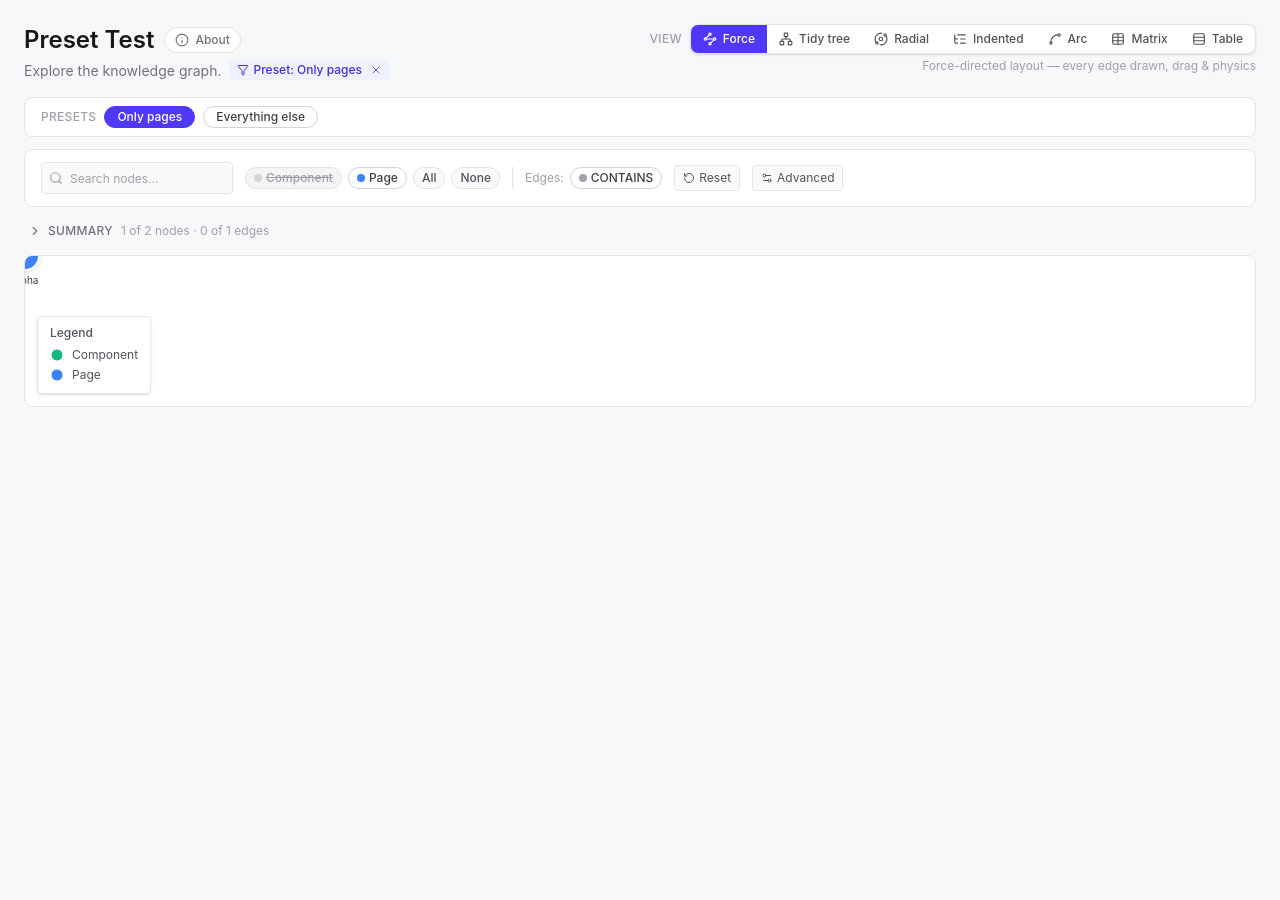
it: Viewer about panel › closes again
Click the button "About".
click(203, 40)  # box x1=164 y1=27 x2=241 y2=53
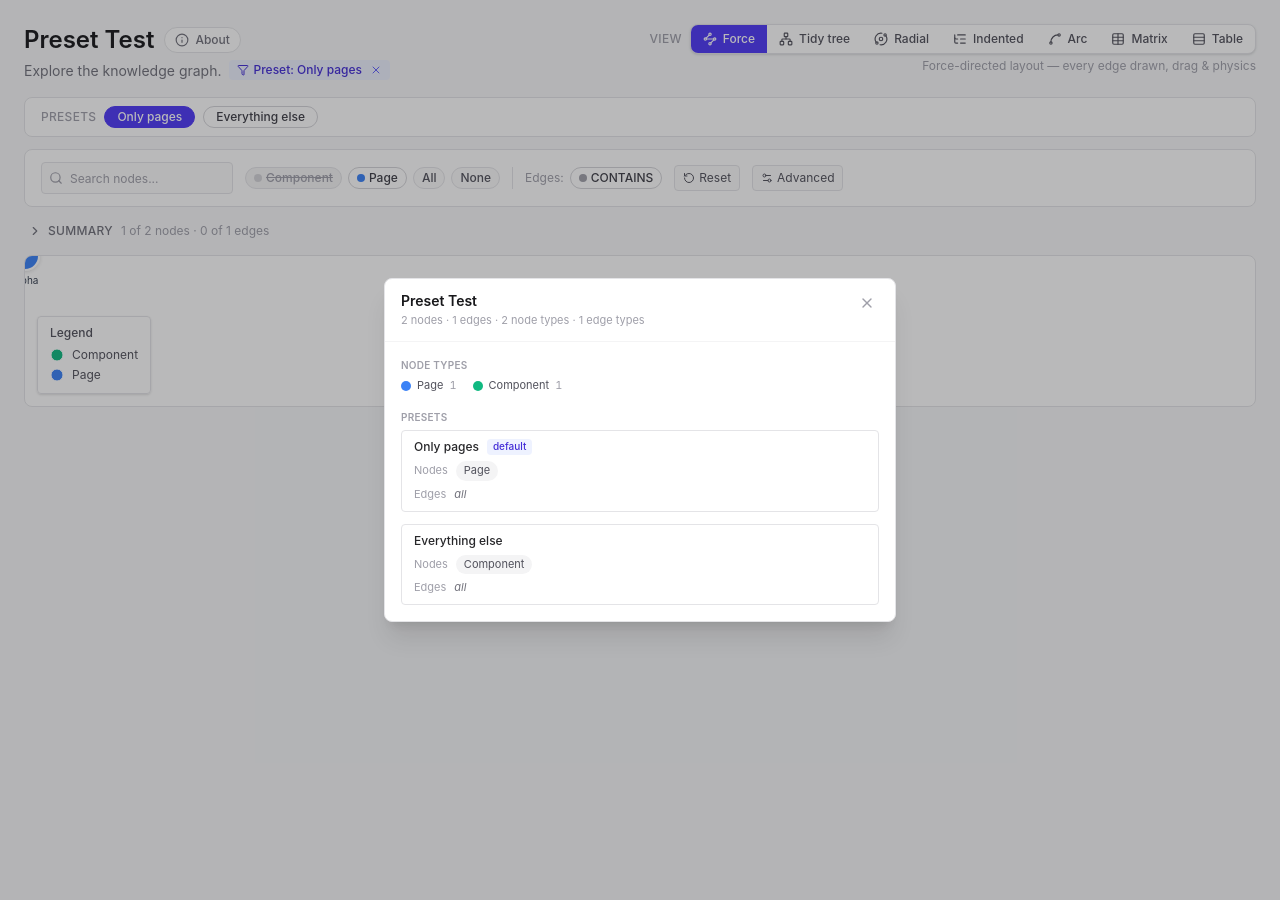
Click the button named "close about".
click(867, 303)  # box x1=855 y1=291 x2=879 y2=315
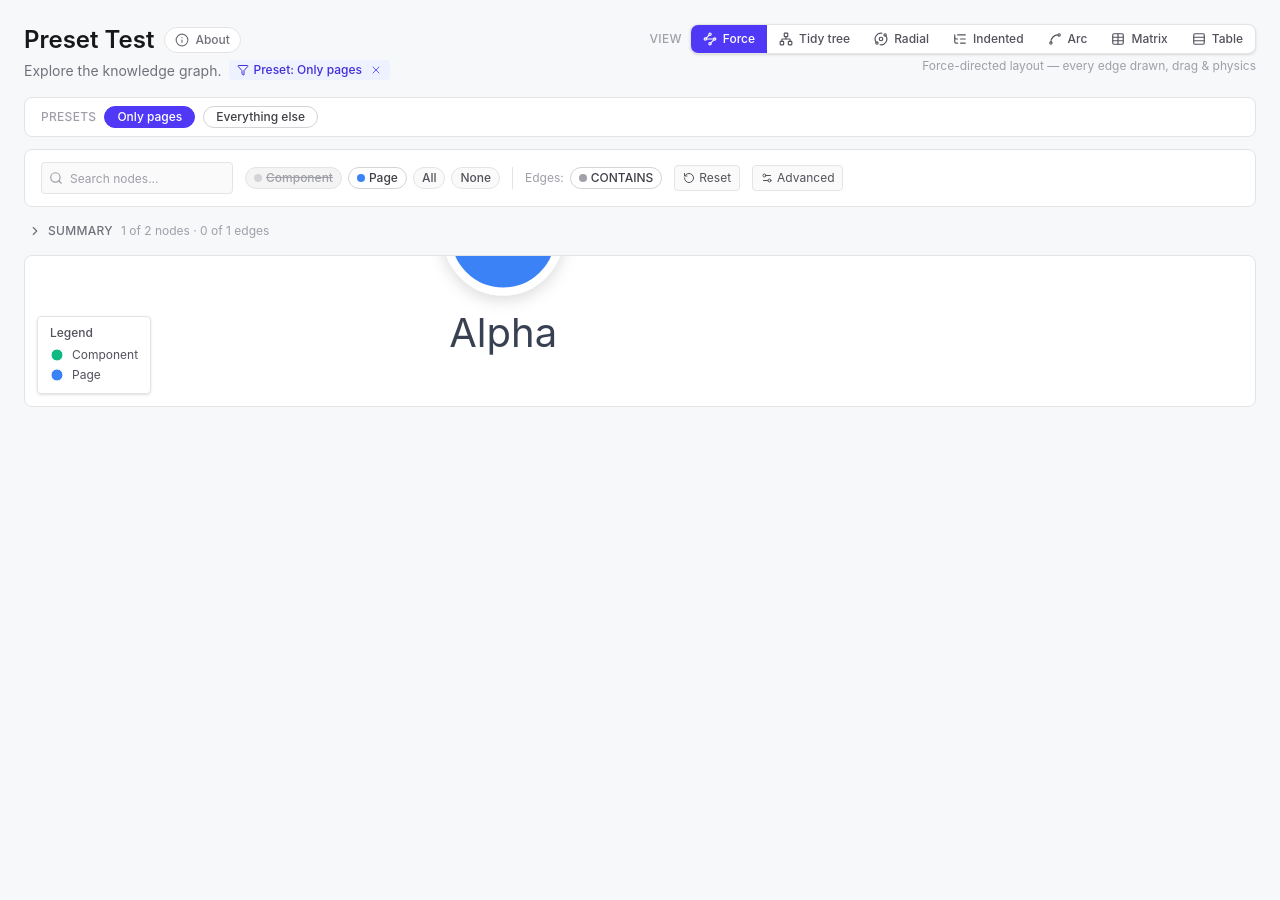
Result: the dialog with test id "about-panel" is gone
